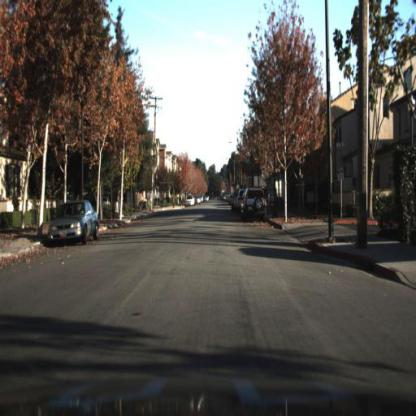car: (46, 198, 101, 248), (238, 187, 269, 225), (183, 194, 198, 212)
